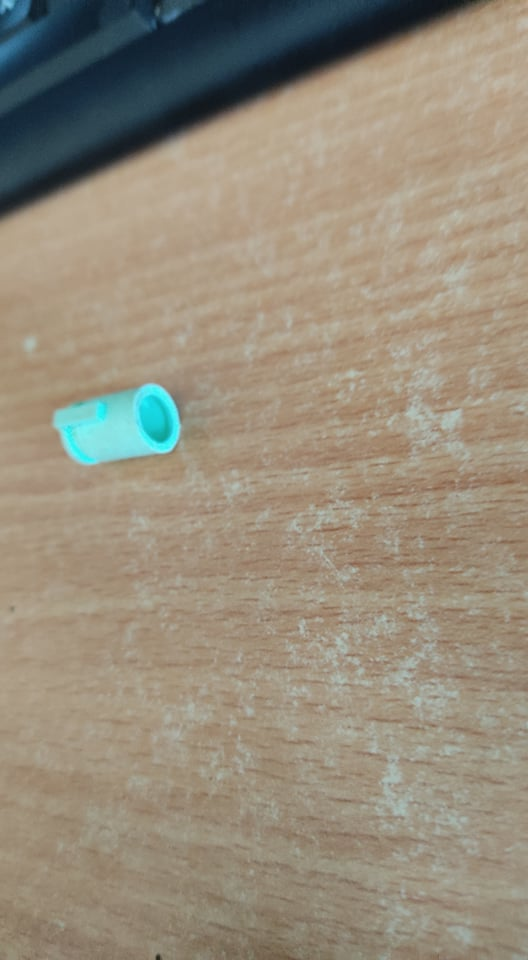green_bucking: (41, 381, 188, 470)
